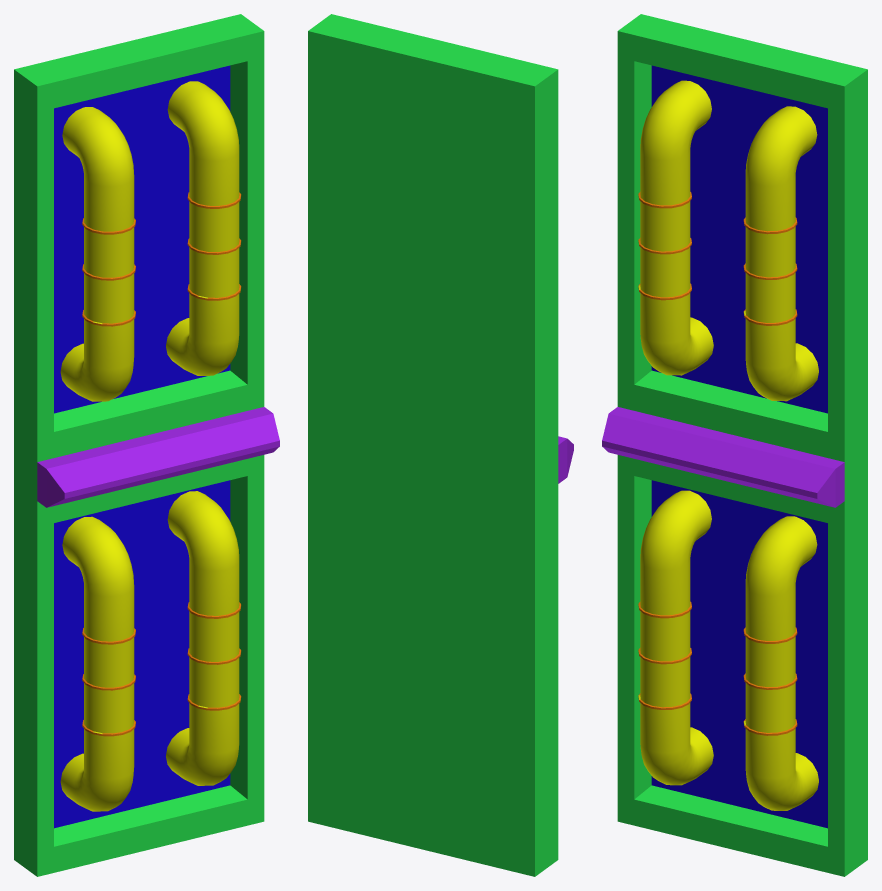
File: TrimV1UVID.fbx
3 renders of one model, left to right at view 1: azimuth 30°, elevation 25°; view 2: azimuth 150°, elevation 25°; view 3: azimuth 330°, elevation 25°, orthographic.
Visible parts, largest first — view 1: Wall, Pipe.001, Pipe.003, Pipe.004, Pipe.002; view 2: Wall; view 3: Wall, Pipe.001, Pipe.003, Pipe.002, Pipe.004.
Boxes of the visible parts, x1,y1,x2,y2 form: Wall: [14, 14, 279, 876]; Pipe.001: [60, 107, 135, 401]; Pipe.003: [60, 516, 135, 811]; Pipe.004: [166, 491, 241, 785]; Pipe.002: [166, 81, 241, 375]; Wall: [308, 14, 573, 876]; Wall: [602, 14, 867, 876]; Pipe.001: [638, 80, 713, 375]; Pipe.003: [638, 490, 713, 785]; Pipe.002: [743, 106, 818, 401]; Pipe.004: [743, 516, 818, 810].
Bounding box in the file's own units: 29.72 × 98.93 × 11.1.
